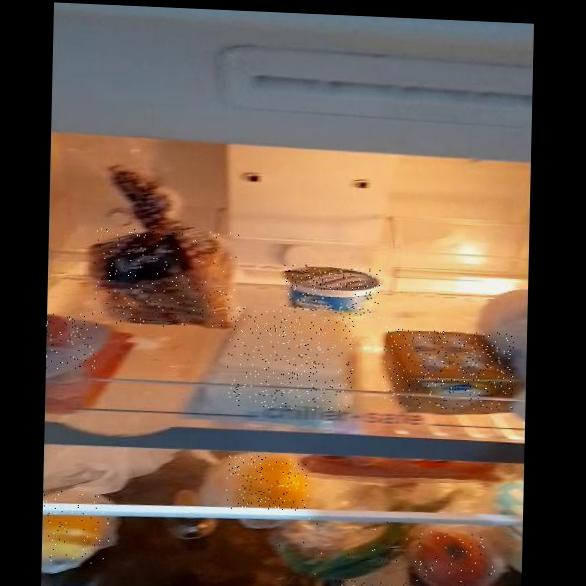bread: (93, 226, 240, 330)
butter: (382, 326, 514, 412)
cheese: (226, 306, 354, 413)
green chilies: (276, 517, 412, 580), (334, 579, 415, 586)
lemon: (42, 490, 110, 564), (226, 455, 309, 512)
salami: (44, 311, 98, 371)
tomato: (415, 531, 497, 586)
yoghurt: (283, 264, 382, 318)
